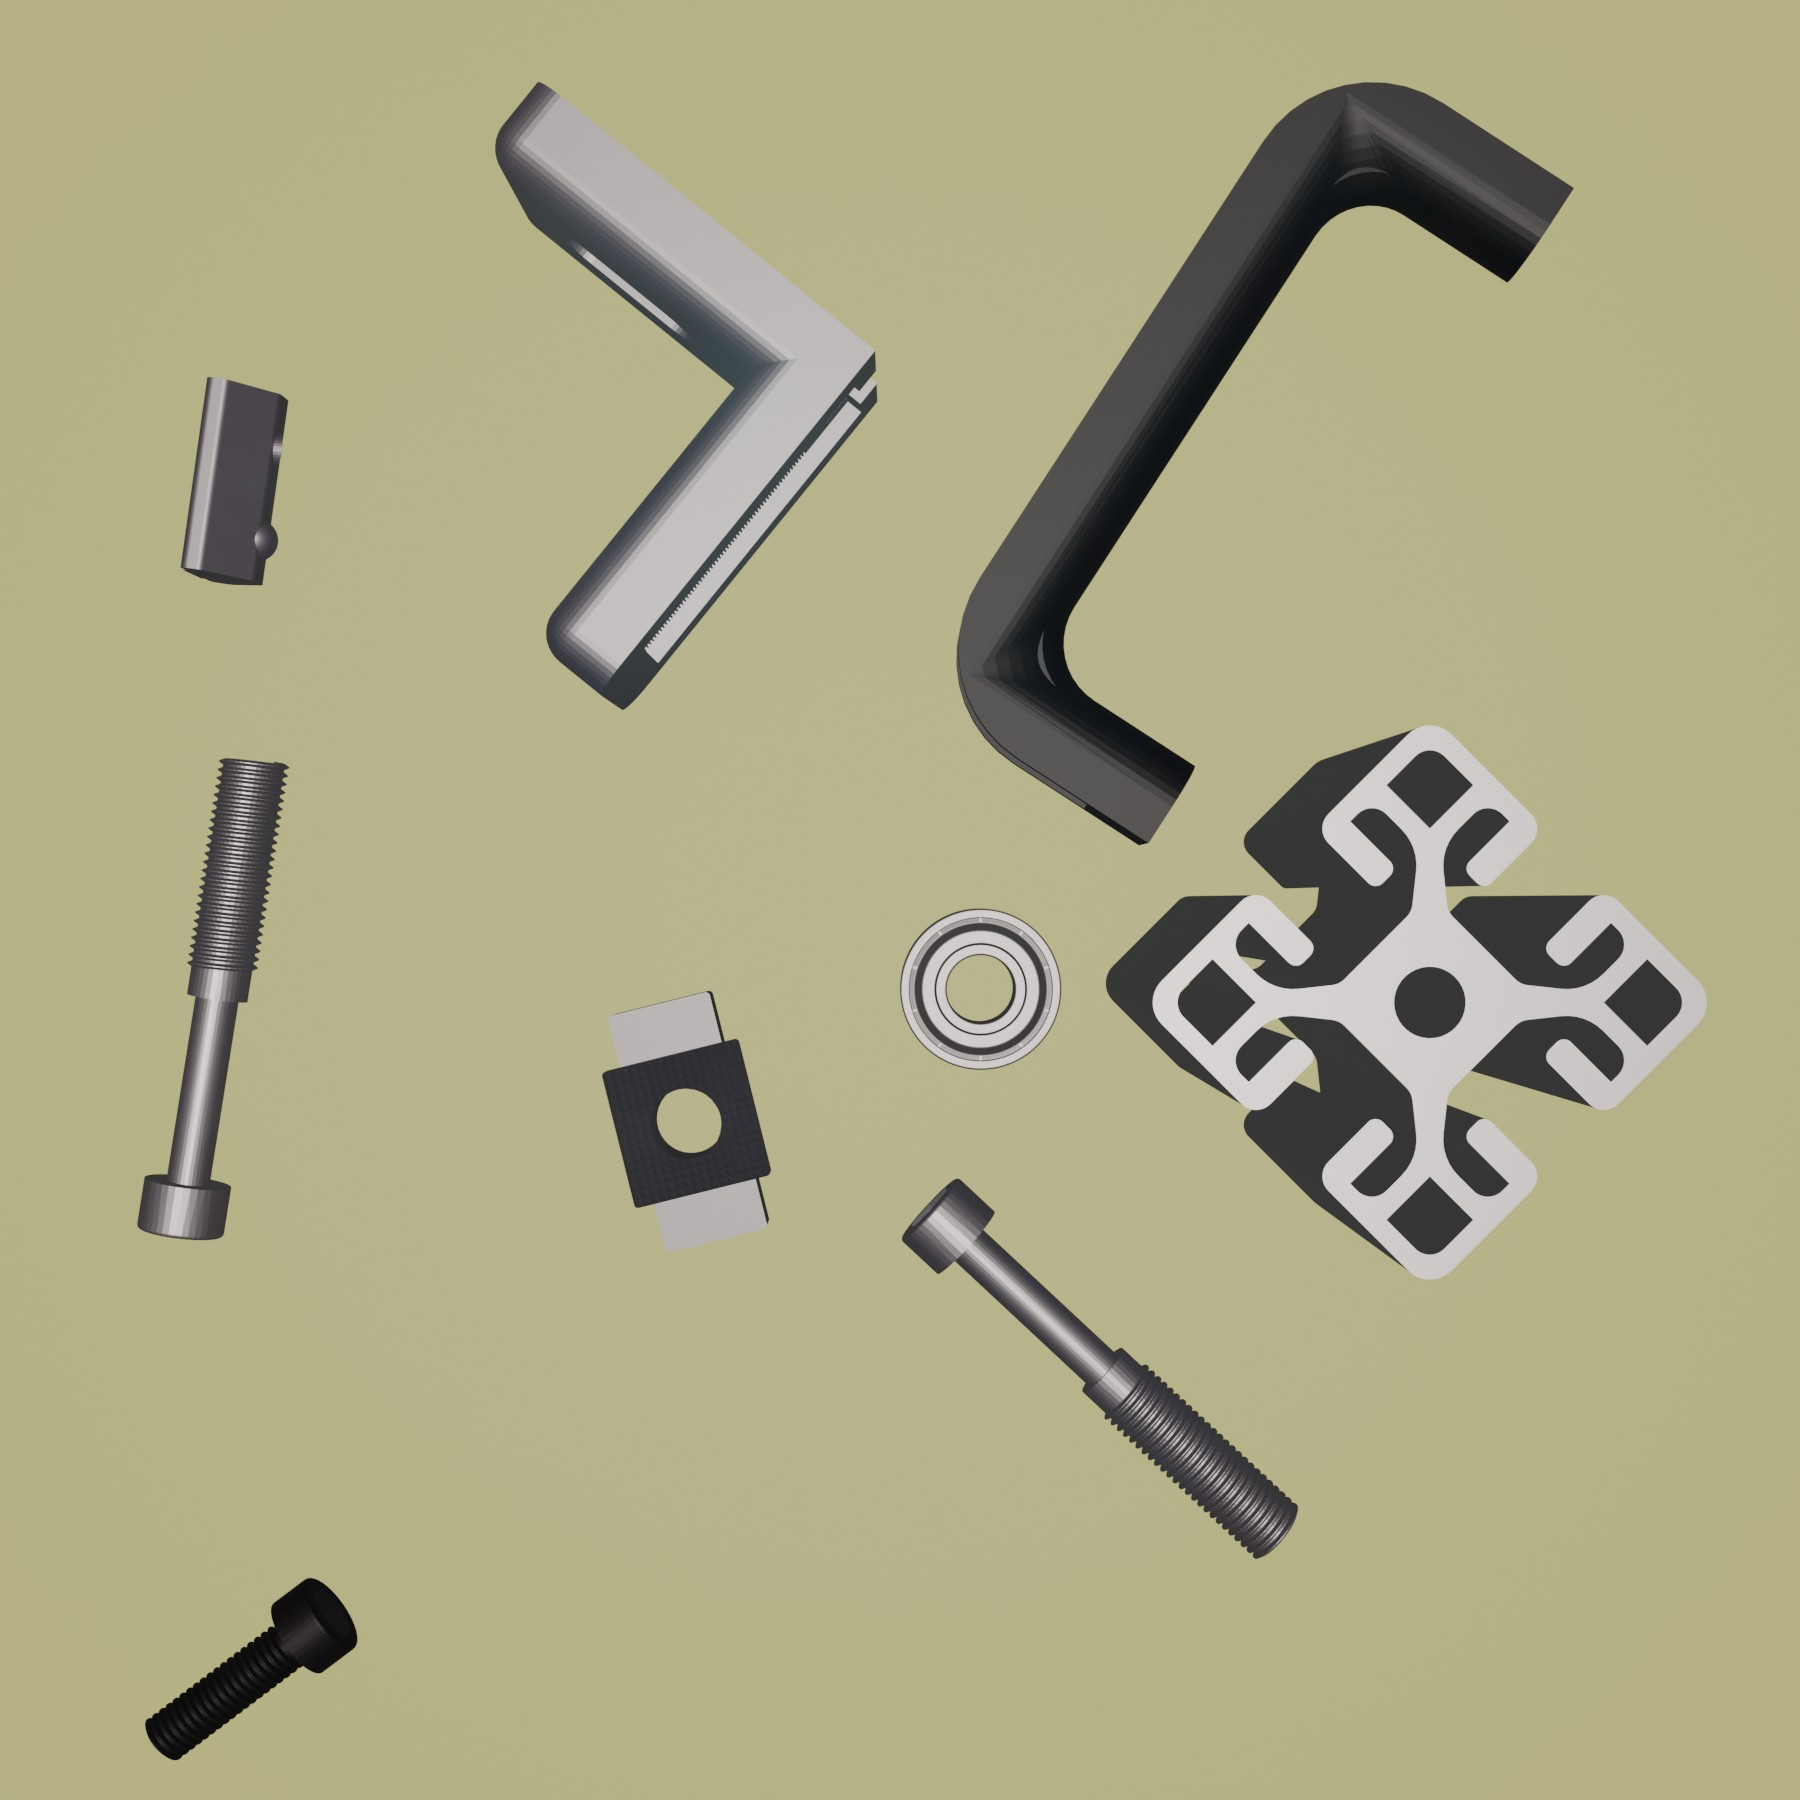Aluminium Extension: (1104, 724, 1709, 1284)
Ball Bearing: (898, 905, 1063, 1070)
Multiwinkel: (493, 81, 880, 712)
Pull Handle: (954, 77, 1574, 846)
Shoulder Socket Head Cap Screw: (898, 1174, 1301, 1563), (135, 753, 293, 1243)
Socket Head Cap Screw: (142, 1573, 359, 1762)
T Nut Square: (598, 984, 775, 1254)
T Spring Nut: (176, 373, 292, 588)
